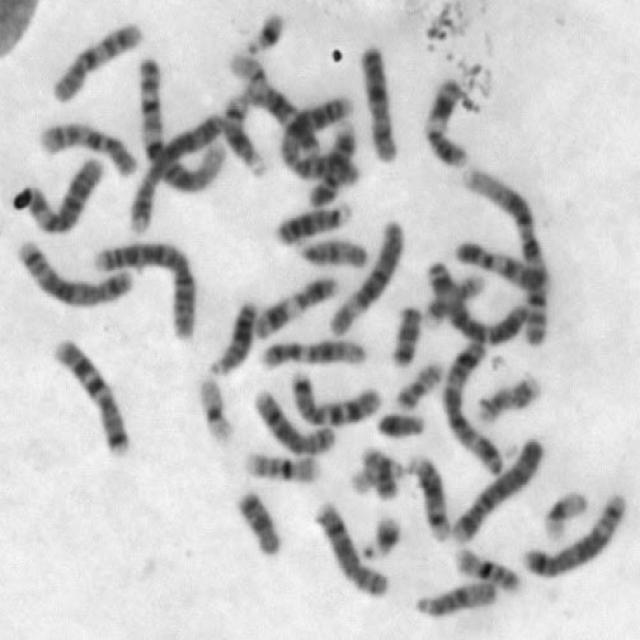A1: (455, 158, 555, 349), (130, 47, 228, 194)
A2: (88, 232, 202, 342), (272, 88, 362, 188)
A3: (436, 332, 506, 476), (423, 254, 531, 346)
B4: (122, 104, 227, 235), (448, 429, 549, 544)
B5: (517, 484, 632, 580), (9, 232, 137, 308)
C10: (44, 13, 148, 105), (33, 112, 141, 179)
C11: (248, 267, 342, 340), (418, 70, 473, 170)
C12: (236, 70, 323, 155), (254, 330, 371, 370)
C6: (322, 211, 408, 337), (13, 148, 105, 235)
C7: (44, 330, 134, 458), (284, 363, 385, 428)
C8: (309, 492, 391, 598), (248, 380, 339, 458)
C9: (448, 232, 554, 293), (301, 115, 361, 209)
D13: (202, 292, 260, 378), (270, 195, 354, 247)
D14: (217, 86, 271, 179), (402, 447, 454, 542)
D15: (408, 570, 500, 620), (289, 230, 371, 270)
E16: (448, 540, 523, 596), (239, 444, 324, 484)
E17: (419, 267, 489, 330), (471, 366, 545, 425)
E18: (228, 481, 284, 558), (384, 298, 424, 369)
F19: (189, 367, 236, 445), (537, 481, 593, 541)
F20: (390, 353, 447, 412), (354, 442, 403, 501)
G21: (354, 507, 404, 562), (239, 3, 288, 56)
G22: (345, 452, 404, 494), (223, 46, 270, 95)
X: (353, 37, 401, 164)
Y: (369, 403, 428, 441)
